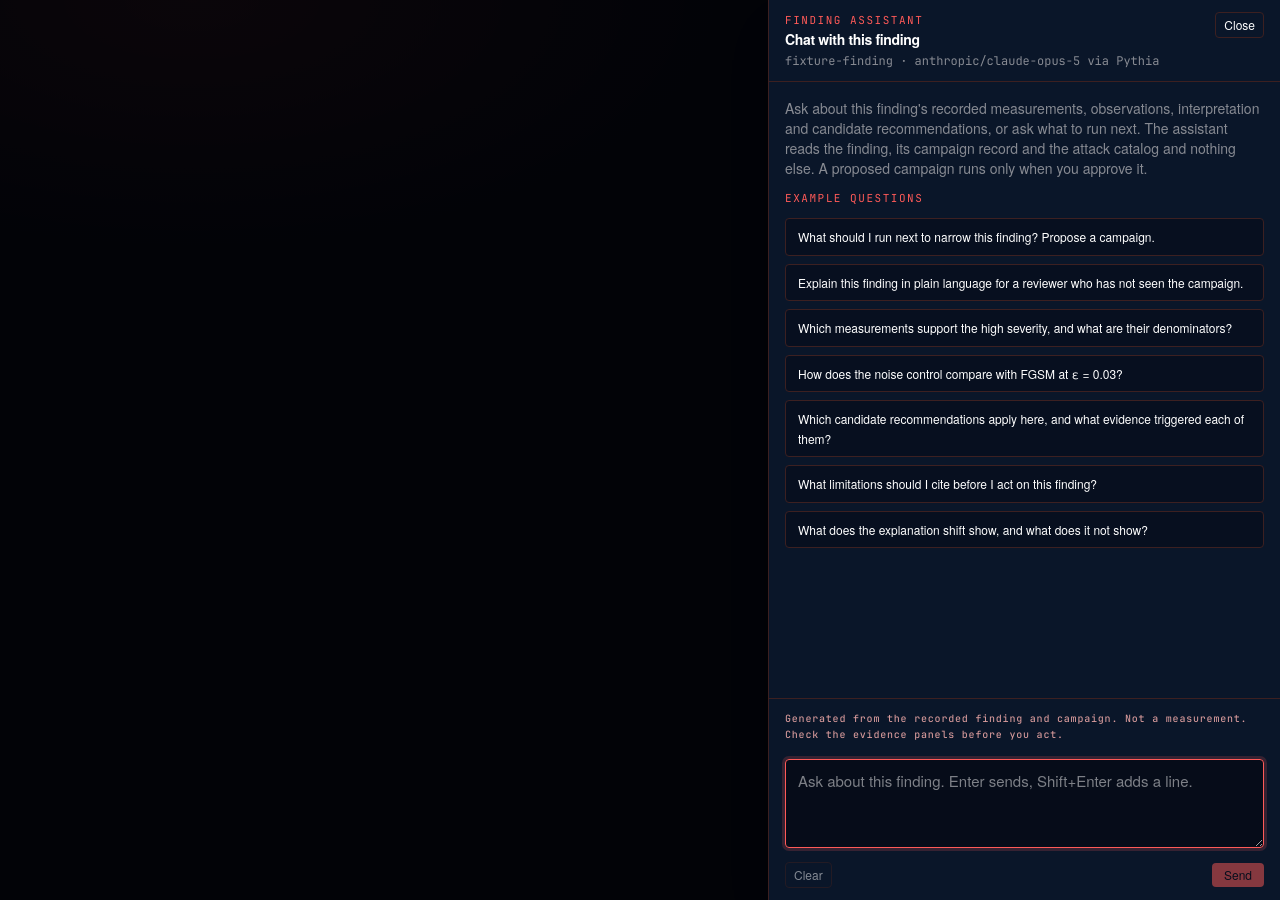
Test: FindingChatPanel › says why an unusable proposal cannot run and keeps the prose
expect the dialog is shown: met, box [768,0,1279,899]
Click the button "Propose a campaign" at (1024, 237), box [785,218,1264,256]
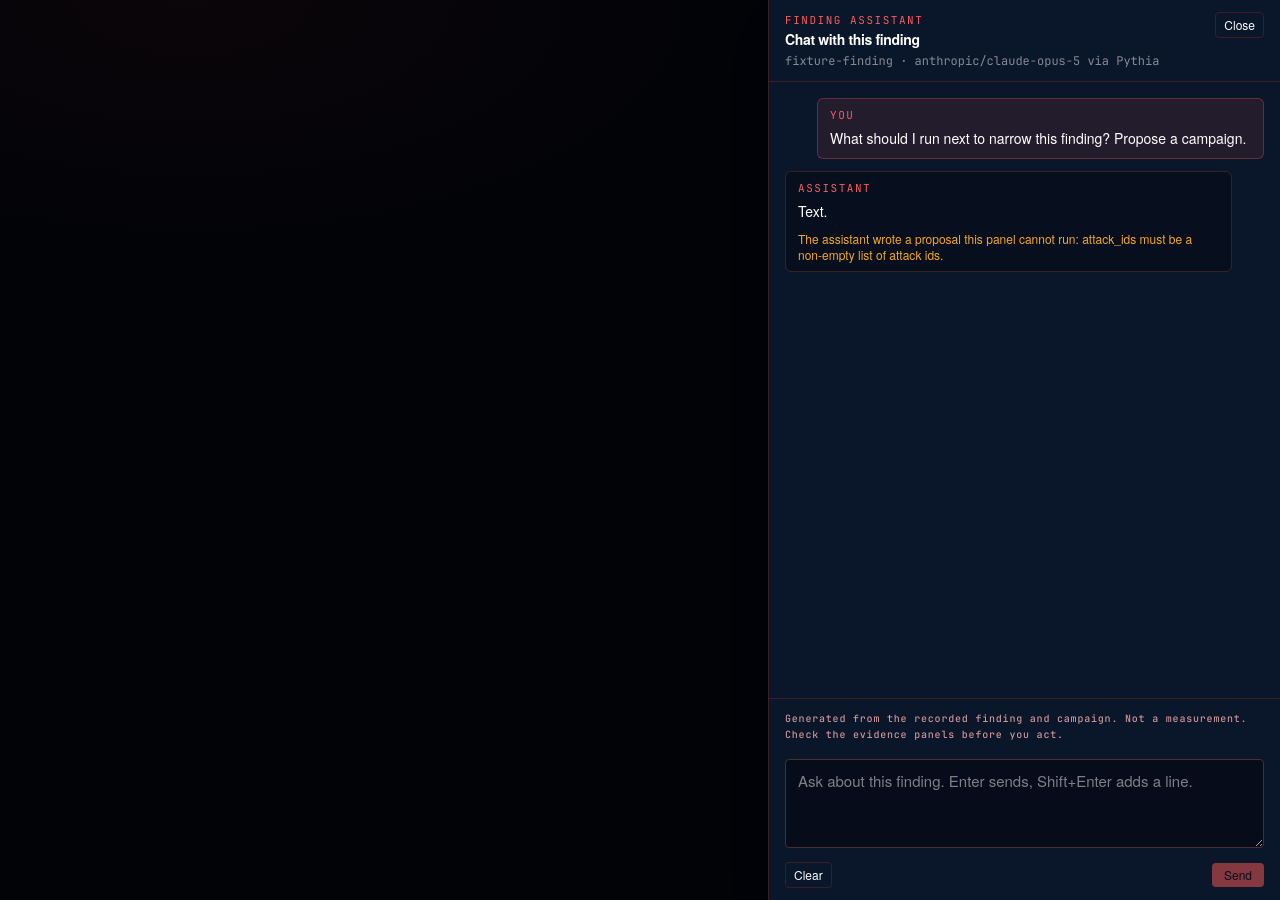
expect the message shows "cannot run: attack_ids": met, box [798,231,1219,263]
expect the text "Text." is shown: met, box [798,201,828,221]
expect the text "Proposed campaign" is gone: met
